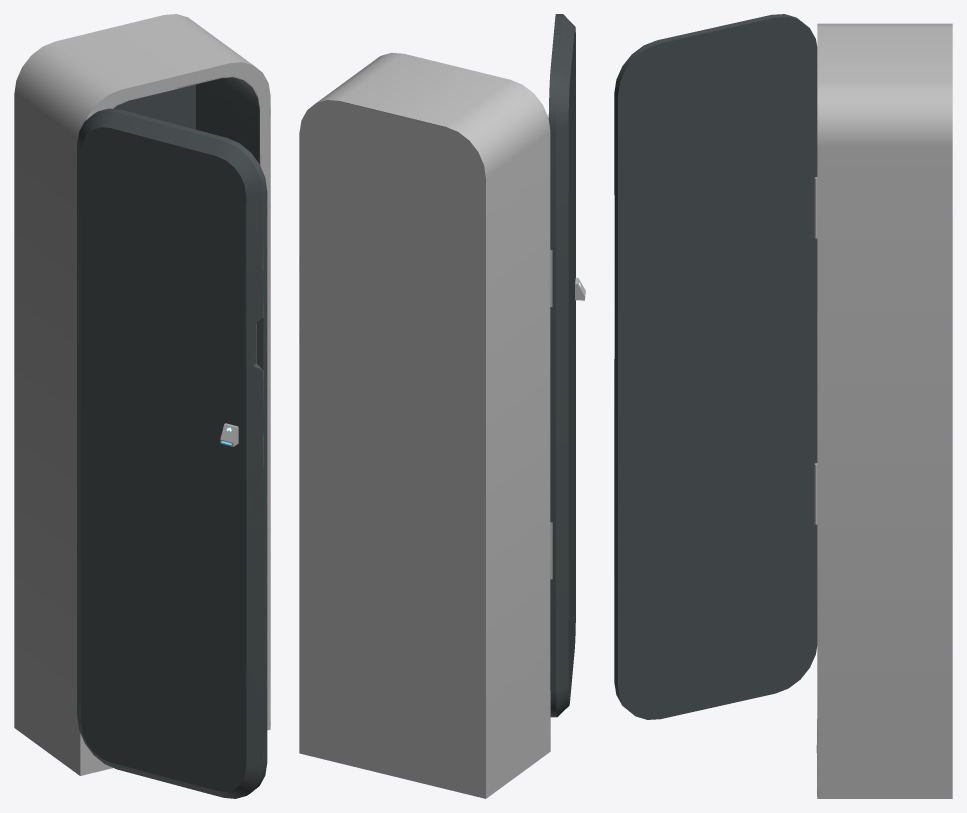
File: locker.fbx
3 renders of one model, left to right at view 1: azimuth 30°, elevation 25°; view 2: azimuth 150°, elevation 25°; view 3: azimuth 270°, elevation 25°, orthographic. The views are drawn at different scales.
Visible parts, largest first — view 1: door, body; view 2: body, door; view 3: door, body.
Part boxes in pixels (x1=…): door: x1=77, y1=108, x2=267, y2=798; body: x1=14, y1=14, x2=270, y2=775; body: x1=299, y1=52, x2=550, y2=798; door: x1=548, y1=14, x2=585, y2=717; door: x1=614, y1=14, x2=817, y2=719; body: x1=816, y1=23, x2=952, y2=798.
Size of the model in its own units: 63.5 by 206 by 90.77.
1 material, 1 textured.
